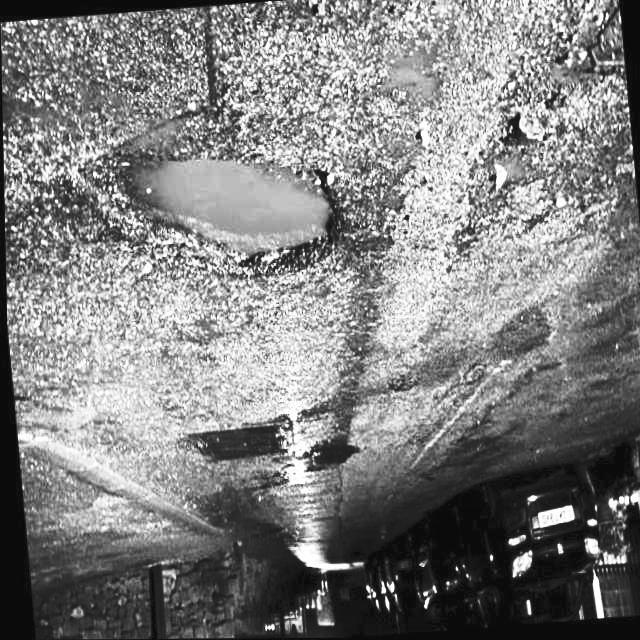Pothole: (136, 123, 358, 330), (305, 420, 360, 486)
